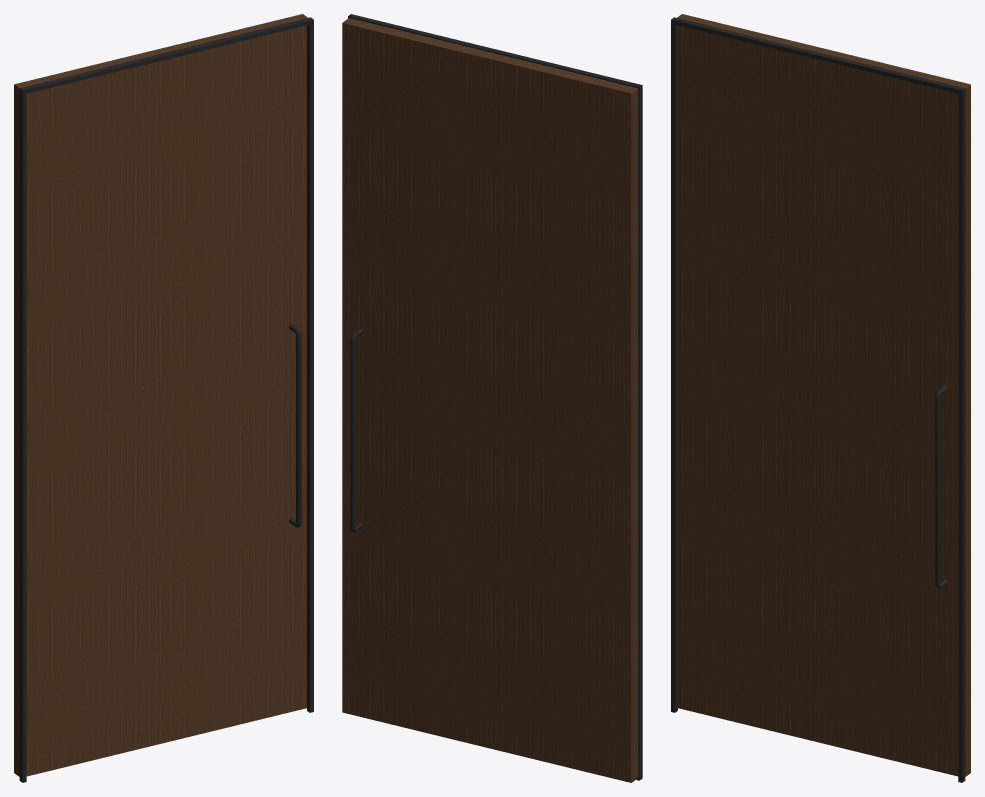
File: door_plain.gltf
The picture shows the model from 3 angles, left to right: view 1: azimuth 30°, elevation 25°; view 2: azimuth 150°, elevation 25°; view 3: azimuth 330°, elevation 25°; orthographic projection.
Parts seen in each view (by area): view 1: DoorPlain_Slab, DoorPlain_Stop_L, DoorPlain_Stop_R, DoorPlain_Stop_Head, DoorPlain_Pull_Hall; view 2: DoorPlain_Slab, DoorPlain_Stop_L, DoorPlain_Stop_Head, DoorPlain_Pull_Room; view 3: DoorPlain_Slab, DoorPlain_Stop_R, DoorPlain_Stop_L, DoorPlain_Stop_Head, DoorPlain_Pull_Hall.
Part boxes in pixels (x1=…): DoorPlain_Slab: x1=14, y1=14, x2=307, y2=776; DoorPlain_Stop_L: x1=19, y1=87, x2=26, y2=782; DoorPlain_Stop_R: x1=307, y1=17, x2=313, y2=712; DoorPlain_Stop_Head: x1=19, y1=18, x2=313, y2=94; DoorPlain_Pull_Hall: x1=289, y1=324, x2=301, y2=527; DoorPlain_Slab: x1=342, y1=18, x2=638, y2=782; DoorPlain_Stop_L: x1=636, y1=84, x2=642, y2=780; DoorPlain_Stop_Head: x1=348, y1=15, x2=642, y2=91; DoorPlain_Pull_Room: x1=350, y1=328, x2=362, y2=532; DoorPlain_Slab: x1=677, y1=14, x2=970, y2=776; DoorPlain_Stop_R: x1=958, y1=87, x2=965, y2=782; DoorPlain_Stop_L: x1=671, y1=17, x2=677, y2=712; DoorPlain_Stop_Head: x1=671, y1=18, x2=965, y2=94; DoorPlain_Pull_Hall: x1=935, y1=385, x2=947, y2=589.
Bounding box in the file's own units: 1.1 × 2.5 × 0.1621.
Materials: 2 (1 with a texture image).
